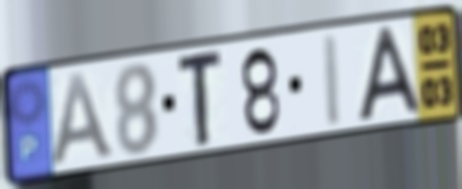8: (111, 59, 162, 158), (239, 45, 282, 137)
A: (355, 22, 425, 125), (48, 70, 118, 169)
I: (320, 30, 344, 130)
T: (176, 45, 225, 151)
